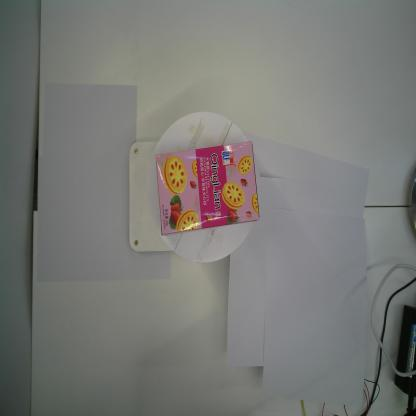Dessert: (154, 139, 261, 238)
